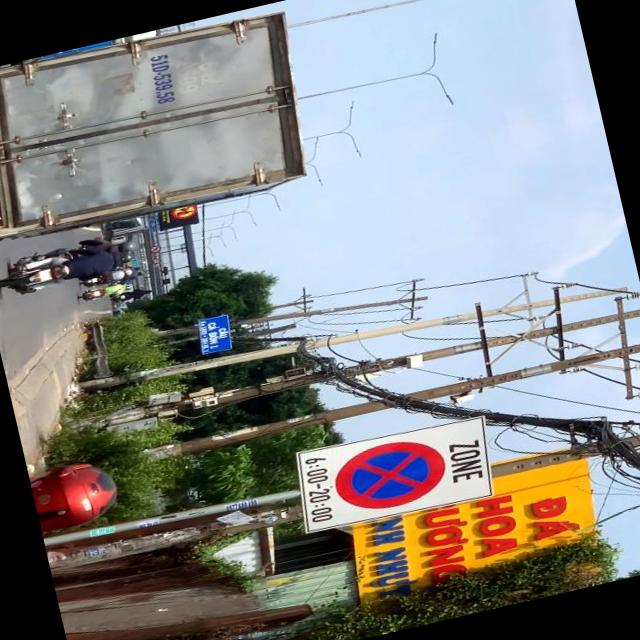P-130: (328, 429, 452, 516)
